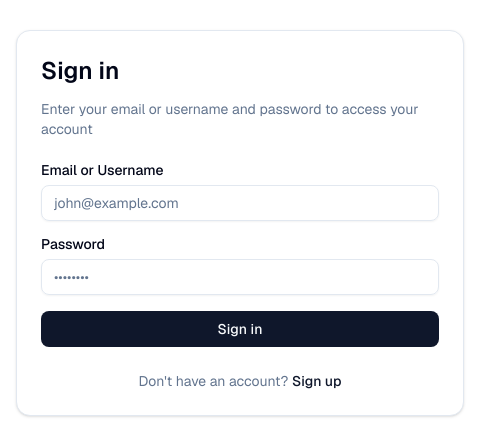
Scenario: LoginPage › Form Validation › should show validation error when email/username is empty
This screenshot has width=481, height=448.
Click the field labelled "Email or Username": click(240, 203) [41,185,439,221]
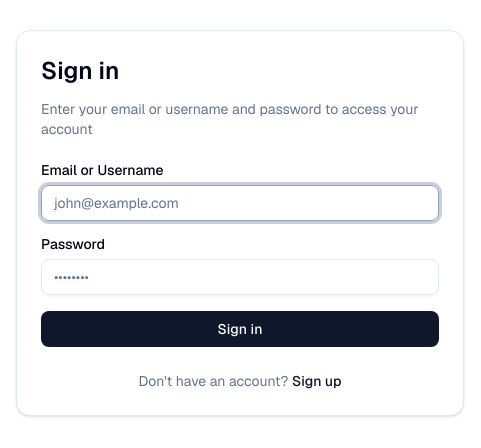
Press Tab
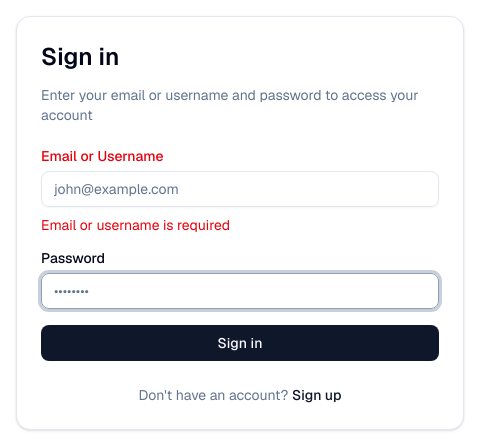
Result: the text "Email or username is required" is shown at [41,216,230,234]
